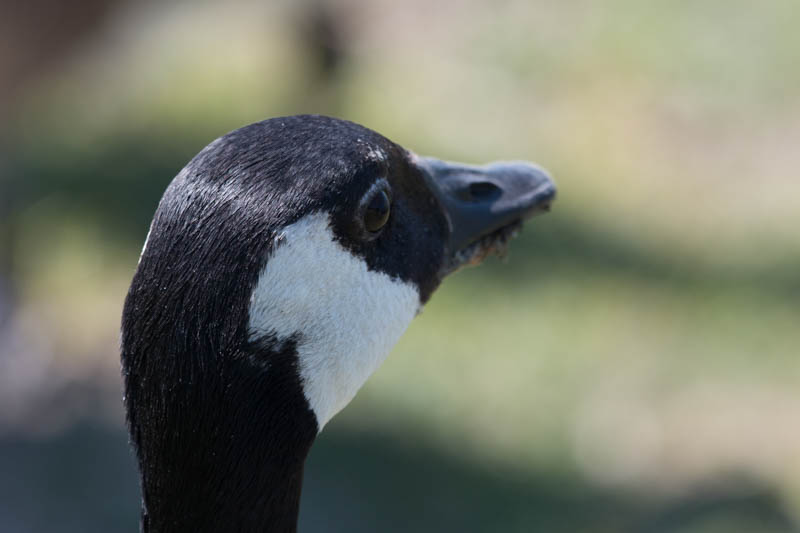goose-head: (121, 115, 559, 459)
